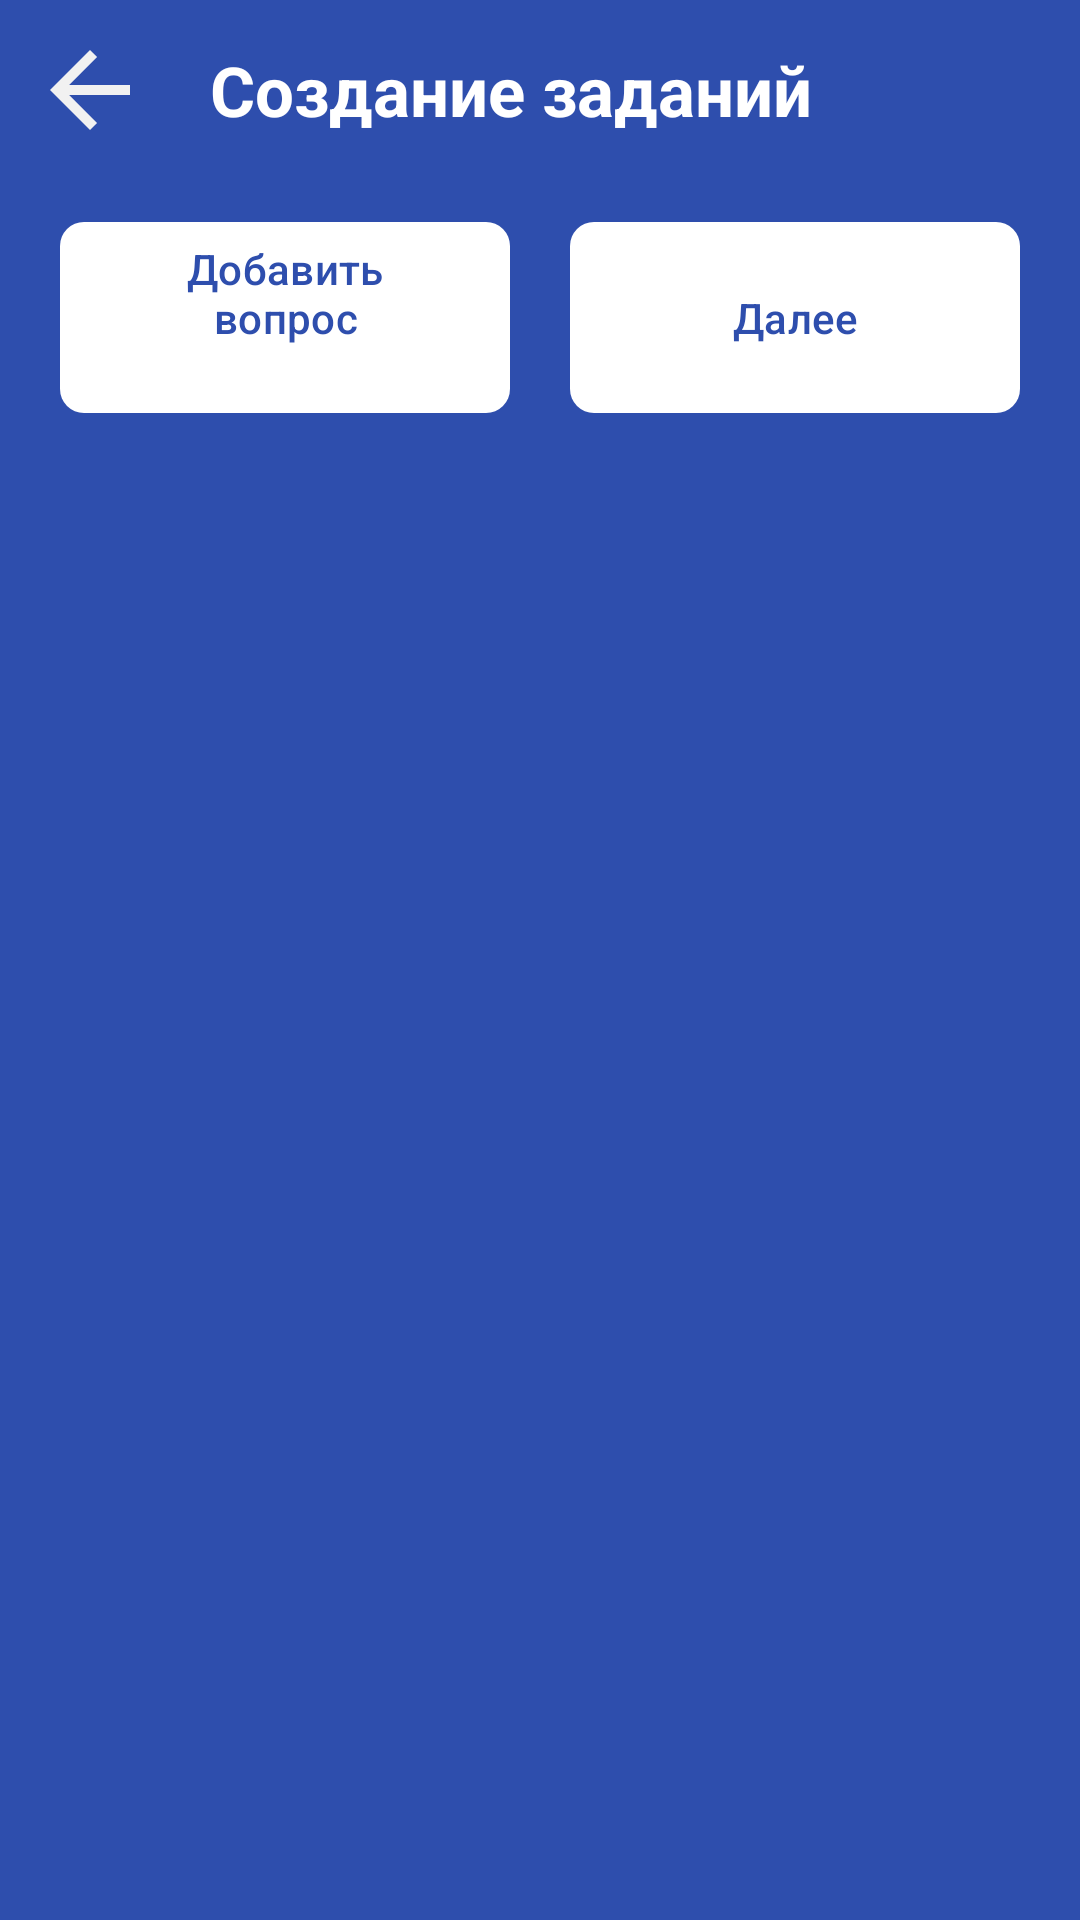

Icon bounding boxes for this 1080 × 1920 phone screenshot, format (x1, y1, x2, y2):
back arrow: (50, 50, 130, 130)
